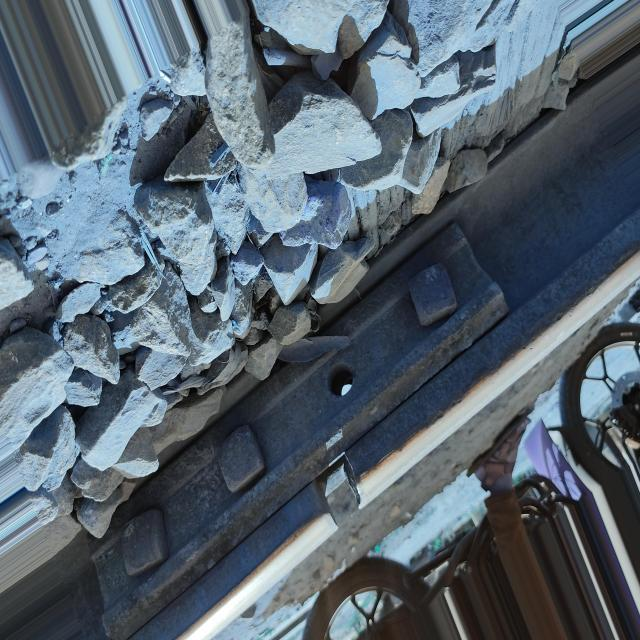Defective Joint: (95, 226, 513, 640)
